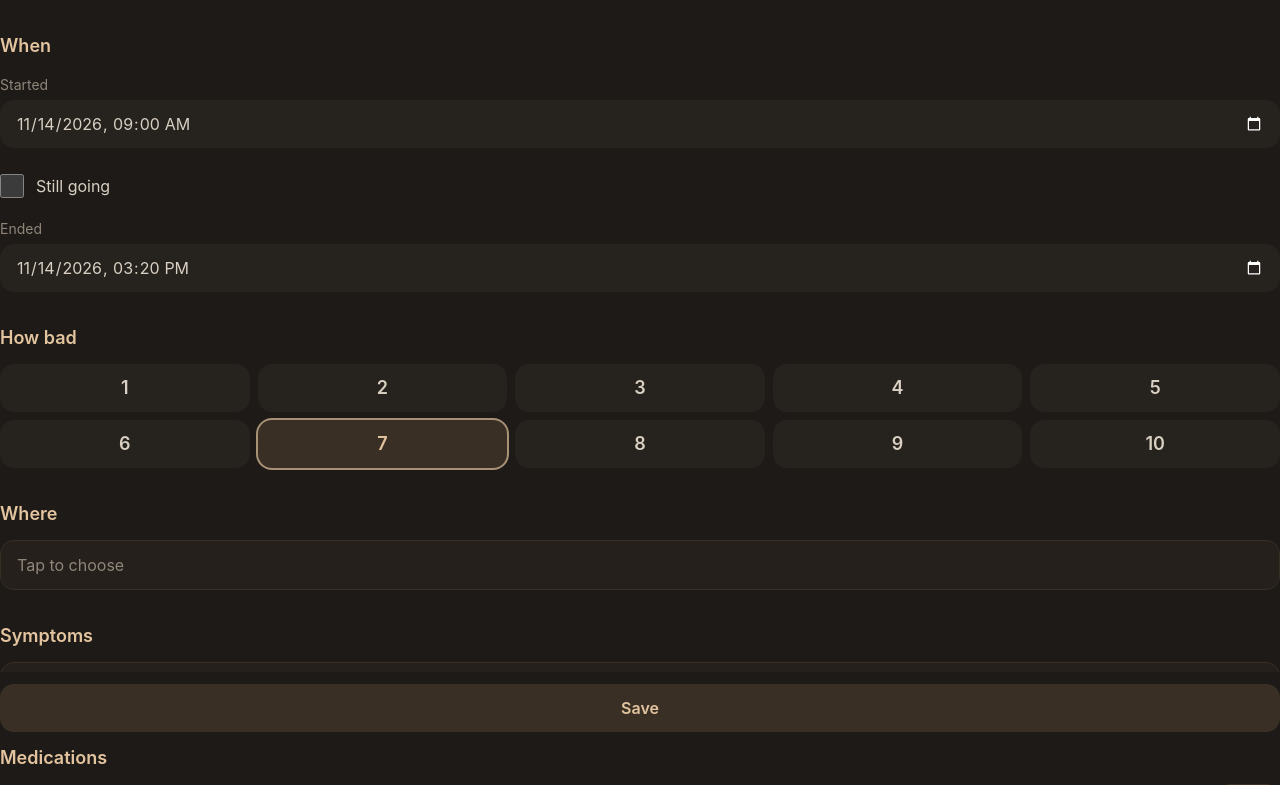
Scenario: start and end times; 'Still going' clears the end
Later steps or results of the test are not shown.
Check: the field labelled "Started" is shown, box [0,100,1279,148]
Check: the field labelled "Ended" is shown, box [0,244,1279,292]
Click the checkbox labelled "Still going" at (12, 186), box [0,174,24,198]
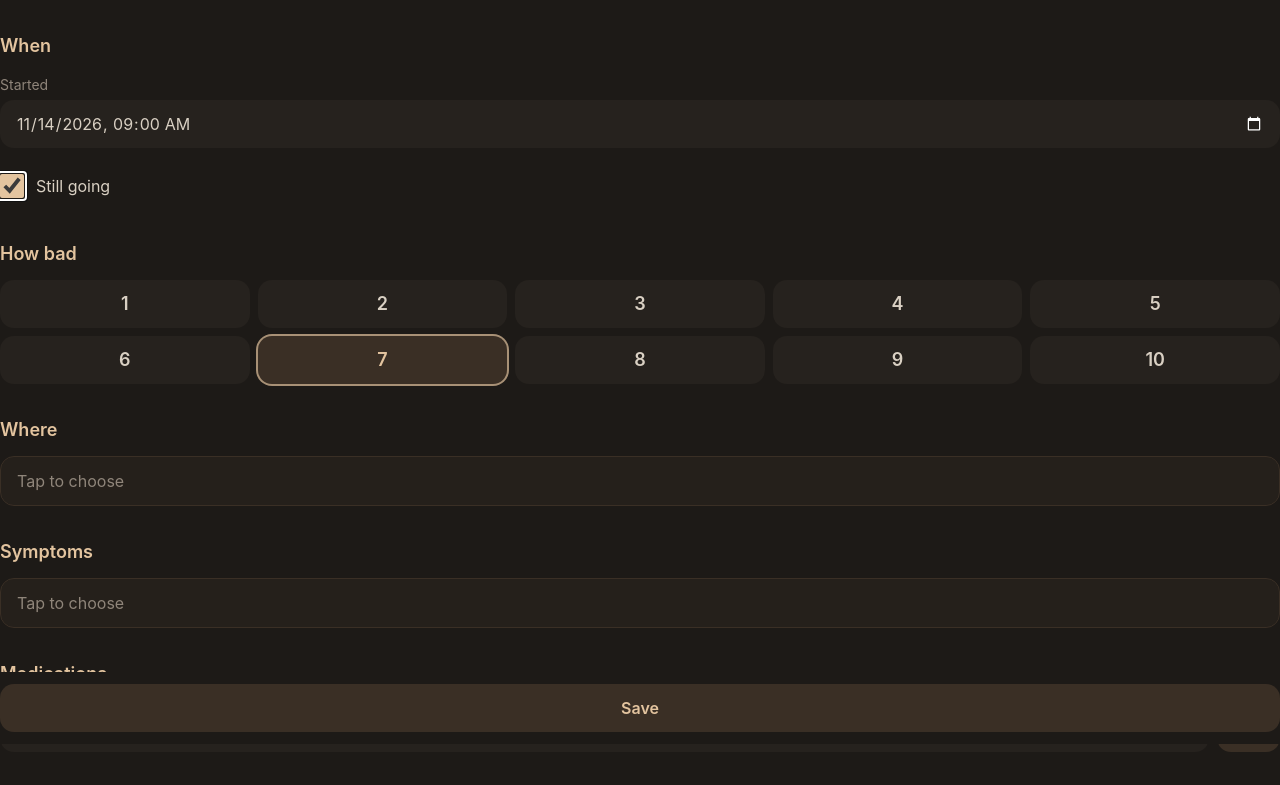
Check: the text labelled "Ended" is gone
